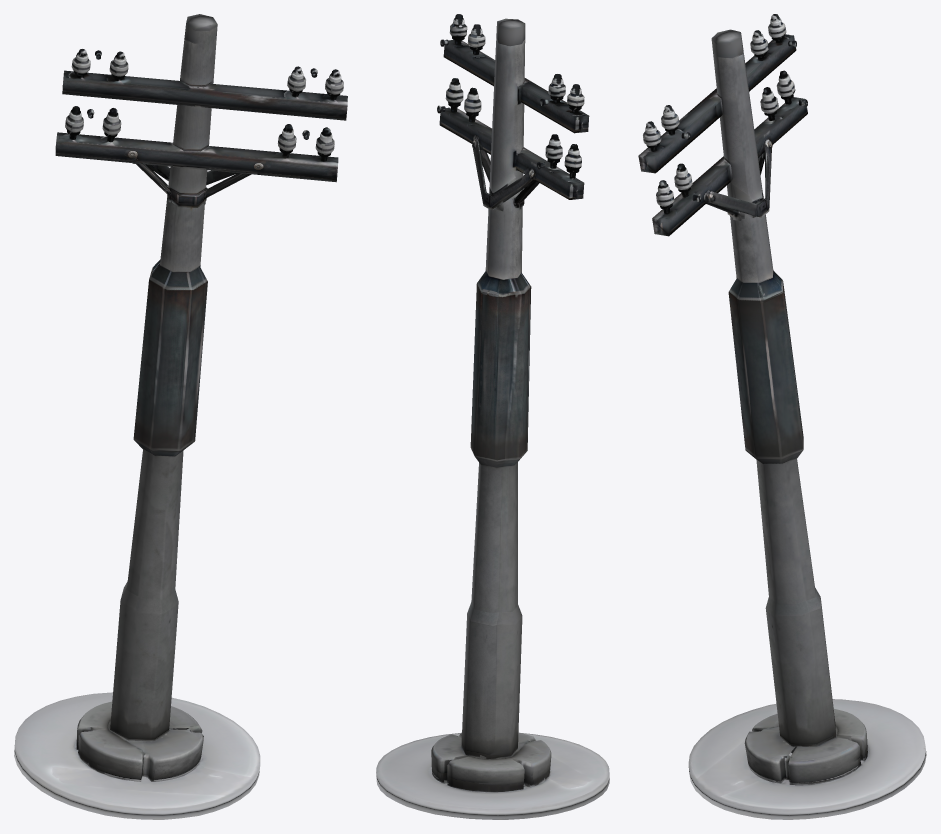
Rendered from power+pole+3d+model.fbx.
The picture shows the model from 3 angles, left to right: view 1: azimuth 30°, elevation 25°; view 2: azimuth 150°, elevation 25°; view 3: azimuth 270°, elevation 25°; orthographic projection. The views are drawn at different scales.
Parts seen in each view (by area): view 1: tripo_762646ae_ead3_417a_a8eb_d6b5e836ffe7; view 2: tripo_762646ae_ead3_417a_a8eb_d6b5e836ffe7; view 3: tripo_762646ae_ead3_417a_a8eb_d6b5e836ffe7.
Boxes of the visible parts, left/top/right/bottom form: tripo_762646ae_ead3_417a_a8eb_d6b5e836ffe7: left=14, top=14, right=347, bottom=819; tripo_762646ae_ead3_417a_a8eb_d6b5e836ffe7: left=376, top=14, right=609, bottom=819; tripo_762646ae_ead3_417a_a8eb_d6b5e836ffe7: left=638, top=14, right=926, bottom=819.
Size of the model in its own units: 0.3198 by 0.9995 by 0.3481.
Materials: 1 (1 with a texture image).
